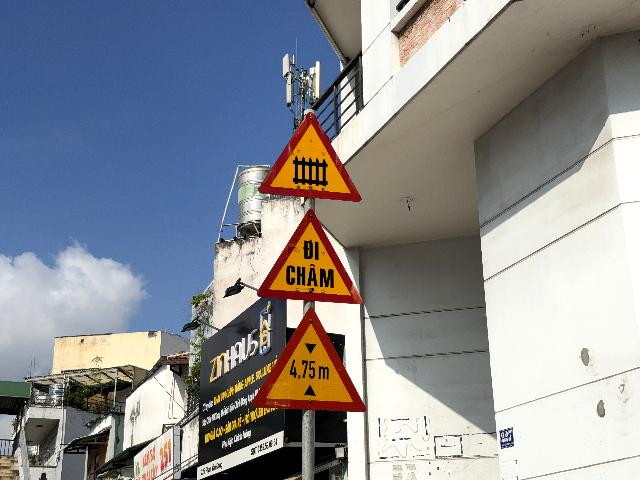chieu-cao-tinh-khong-thuc-te: (251, 306, 367, 413)
di-cham: (257, 208, 363, 305)
noi-giao-nhau-voi-duong-sat-co-rao-chan: (258, 112, 362, 202)
